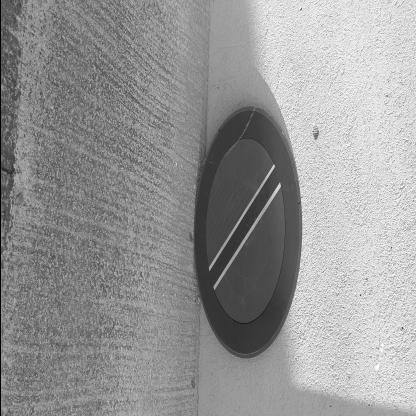No Waiting: (195, 111, 301, 359)
